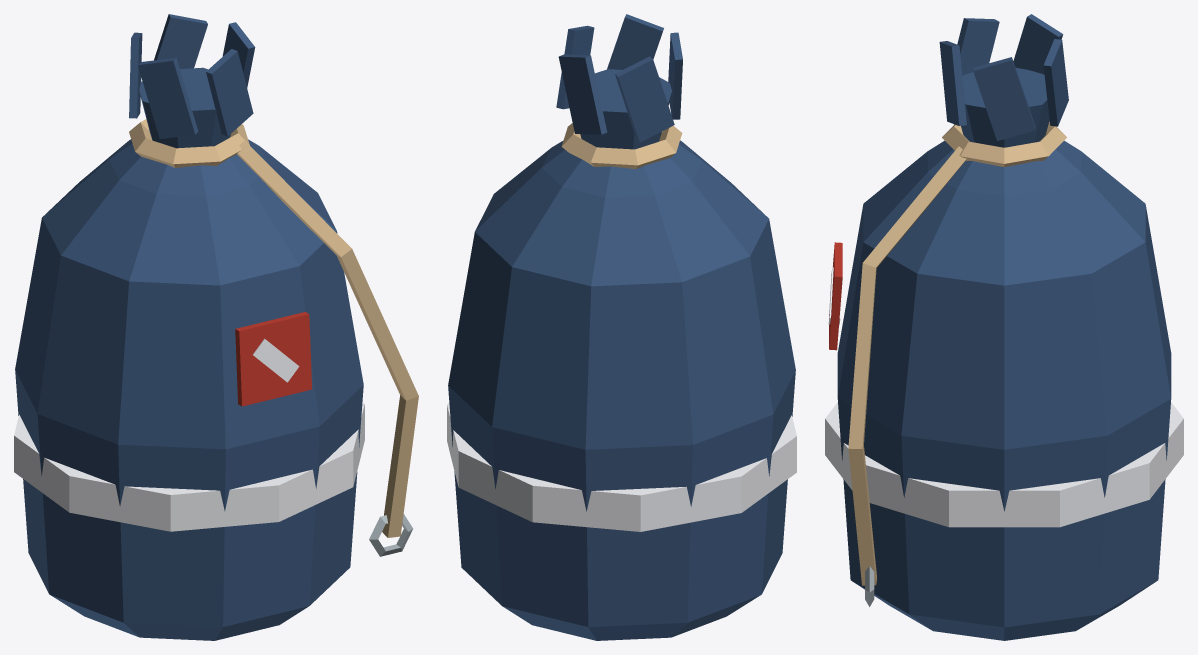
Rendered from seesack.glb.
3 renders of one model, left to right at view 1: azimuth 30°, elevation 25°; view 2: azimuth 150°, elevation 25°; view 3: azimuth 270°, elevation 25°, orthographic.
Parts seen in each view (by area): view 1: seesack-m; view 2: seesack-m; view 3: seesack-m.
Part boxes in pixels (box(x1,y1,x2,y2)): seesack-m: box(14, 14, 418, 640); seesack-m: box(447, 14, 796, 640); seesack-m: box(825, 14, 1183, 640).
Bounding box in the file's own units: 0.528 × 0.9062 × 0.532.
